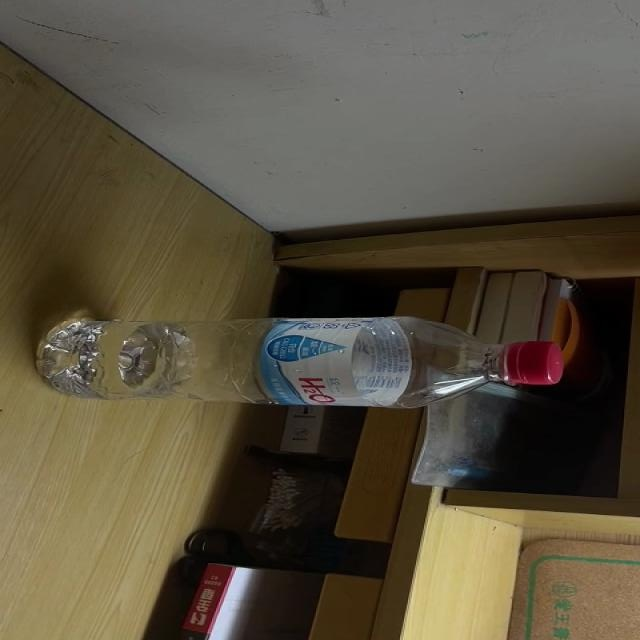Water: (37, 316, 563, 407)
